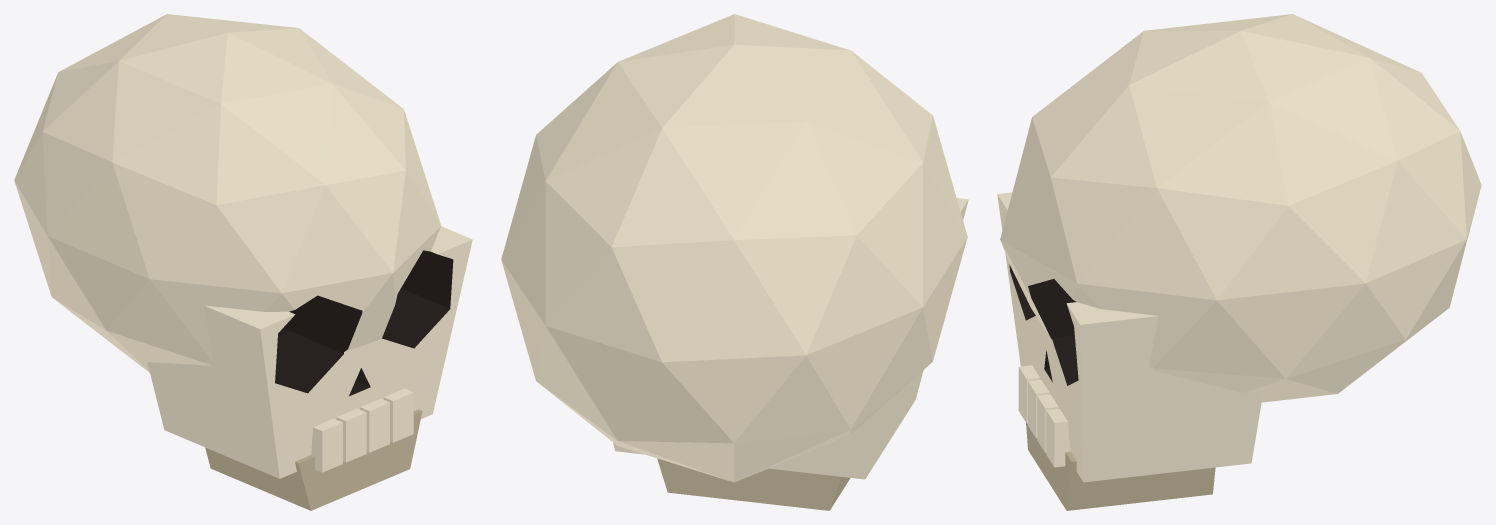
File: sample_skull.glb
3 views of the same model, side by side, from view 1: azimuth 30°, elevation 25°; view 2: azimuth 150°, elevation 25°; view 3: azimuth 270°, elevation 25° (orthographic). The views are drawn at different scales.
Parts seen in each view (by area): view 1: Skull; view 2: Skull; view 3: Skull.
Part boxes in pixels (left/top/right/bottom): Skull: left=14, top=14, right=472, bottom=510; Skull: left=501, top=14, right=968, bottom=510; Skull: left=997, top=14, right=1481, bottom=510.
Bounding box in the file's own units: 1.12 × 1.27 × 1.31.
Materials: 1 (1 with a texture image).
